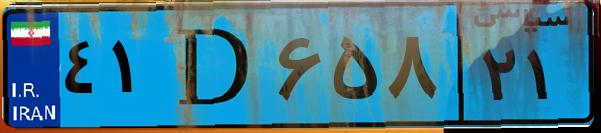1: (525, 38, 570, 115), (110, 28, 158, 98)
2: (475, 38, 525, 113)
4: (57, 26, 110, 100)
5: (330, 28, 385, 110)
6: (270, 28, 330, 110)
8: (385, 28, 445, 110)
D: (158, 12, 270, 120)
